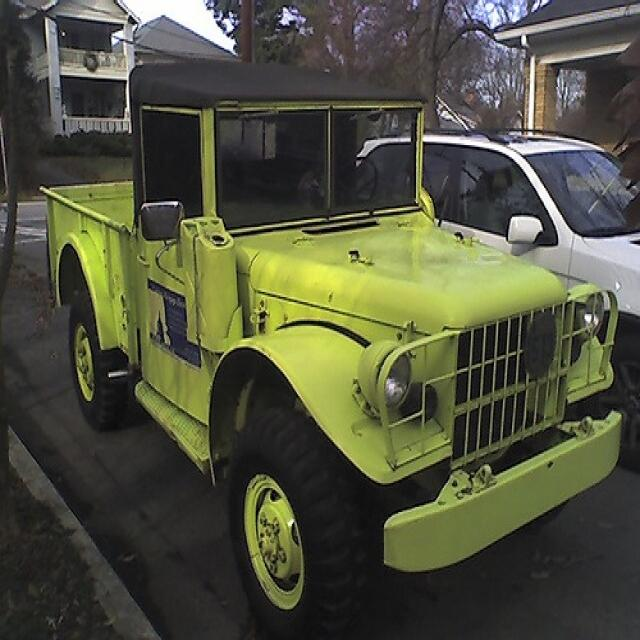car: (34, 53, 628, 638), (352, 128, 639, 478)
